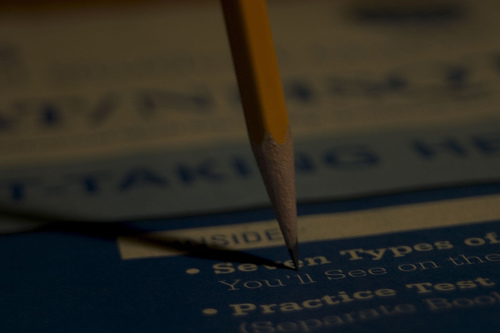pen_tip: (228, 122, 323, 276)
